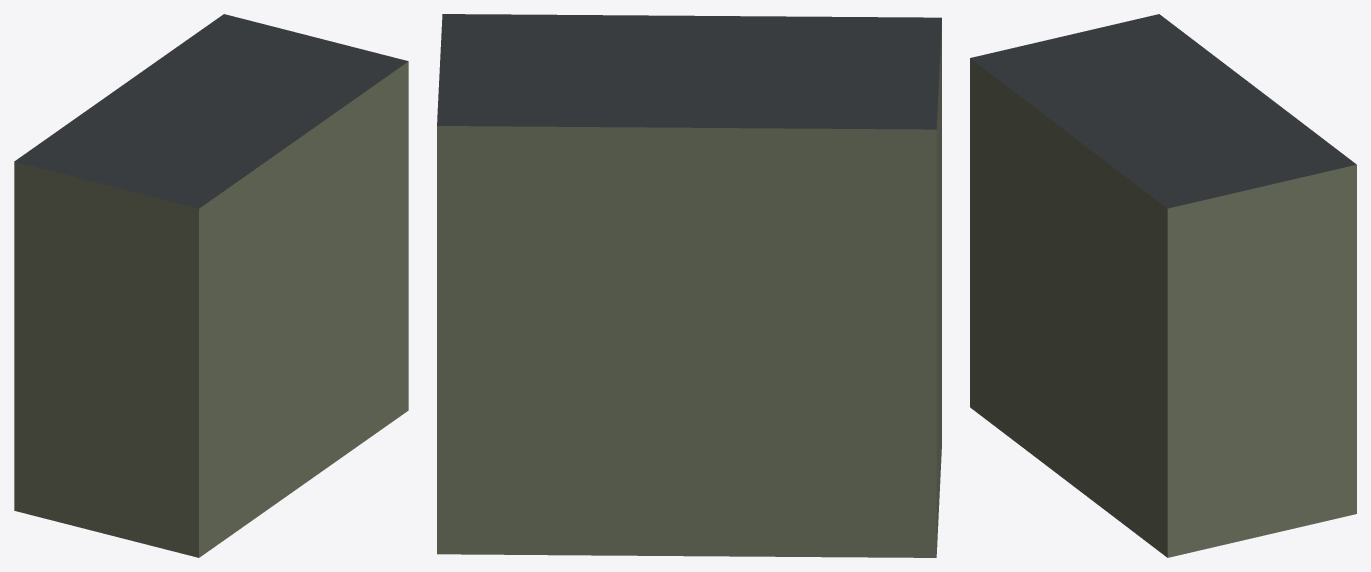
File: nyc-1034240-0.glb
3 views of the same model, side by side, from view 1: azimuth 30°, elevation 25°; view 2: azimuth 150°, elevation 25°; view 3: azimuth 270°, elevation 25° (orthographic). The views are drawn at different scales.
Visible parts, largest first — view 1: nyc-1034240-0; view 2: nyc-1034240-0; view 3: nyc-1034240-0.
Part boxes in pixels (x1,y1,x2,y2): nyc-1034240-0: (14, 14, 408, 557); nyc-1034240-0: (437, 14, 941, 557); nyc-1034240-0: (970, 14, 1356, 557).
Bounding box in the file's own units: 40.91 × 34.24 × 34.36.
